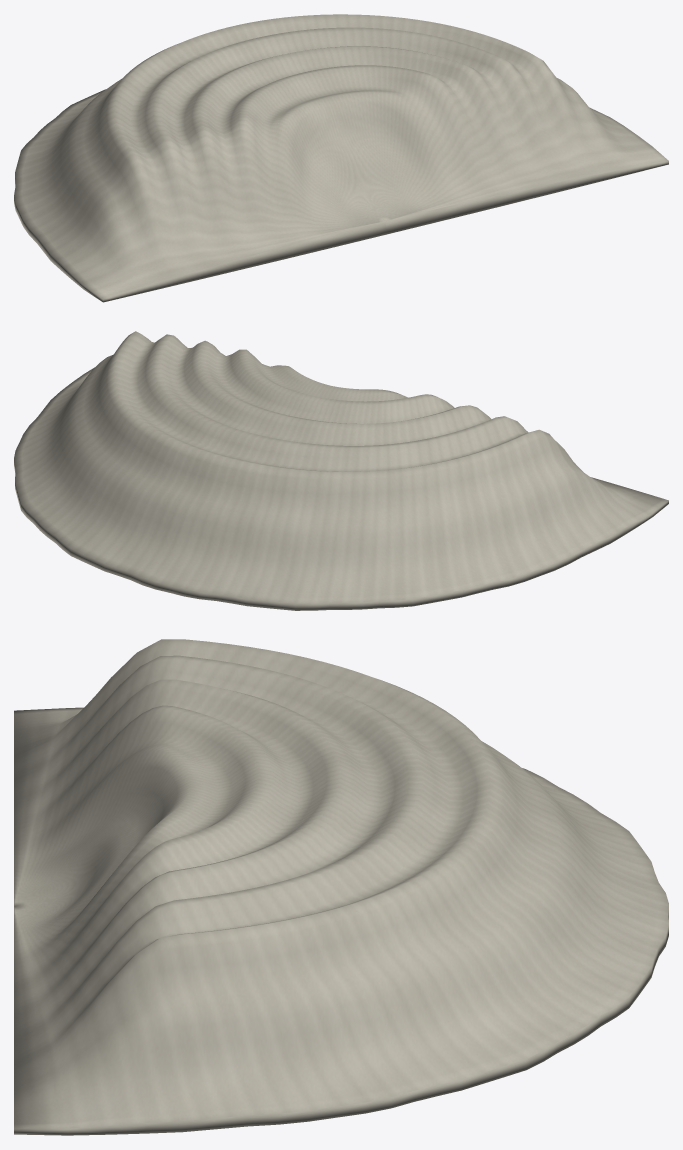
The picture shows the model from 3 angles, top to bottom: view 1: azimuth 30°, elevation 25°; view 2: azimuth 150°, elevation 25°; view 3: azimuth 270°, elevation 25°; orthographic projection. The views are drawn at different scales.
Parts seen in each view (by area): view 1: Leptaena richmondensis whole fossil — OUIP2232 form study; view 2: Leptaena richmondensis whole fossil — OUIP2232 form study; view 3: Leptaena richmondensis whole fossil — OUIP2232 form study.
Part boxes in pixels (x1,y1,x2,y2): Leptaena richmondensis whole fossil — OUIP2232 form study: (14,14,668,302); Leptaena richmondensis whole fossil — OUIP2232 form study: (14,331,668,610); Leptaena richmondensis whole fossil — OUIP2232 form study: (14,639,668,1135).
Bounding box in the file's own units: 1 × 0.1705 × 0.6613.
1 material, 1 textured.
